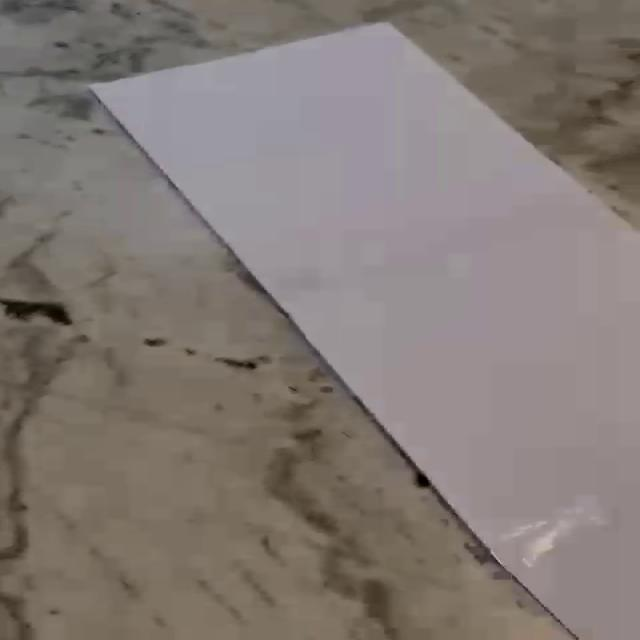road: (91, 24, 639, 640)
